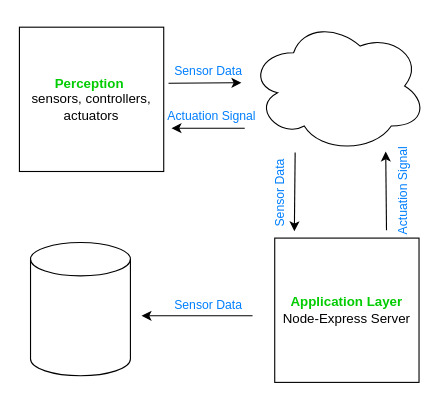
The diagram is 446 pixels wide and 402 high, and some of its shapes have lost their labels. Each missing label, with the centre of its shape:
"Hivemq Cloud" belongs at [337,85].
"MongoDB database" belongs at [79,308].
